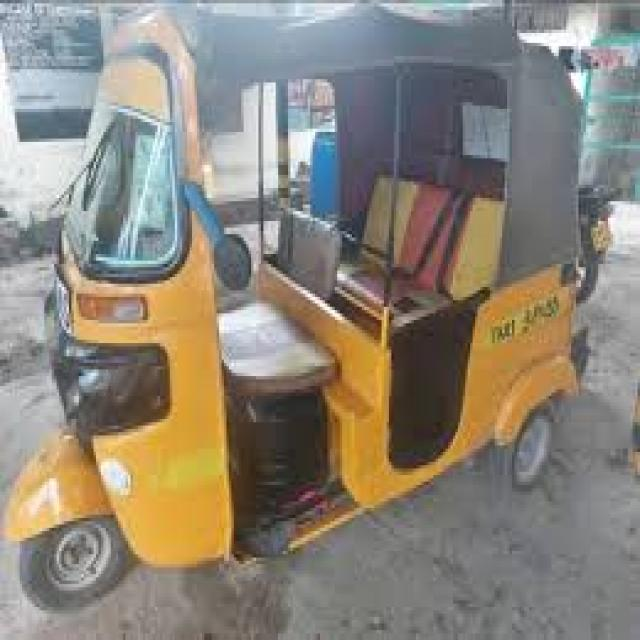tuktuk: (7, 0, 620, 625)
